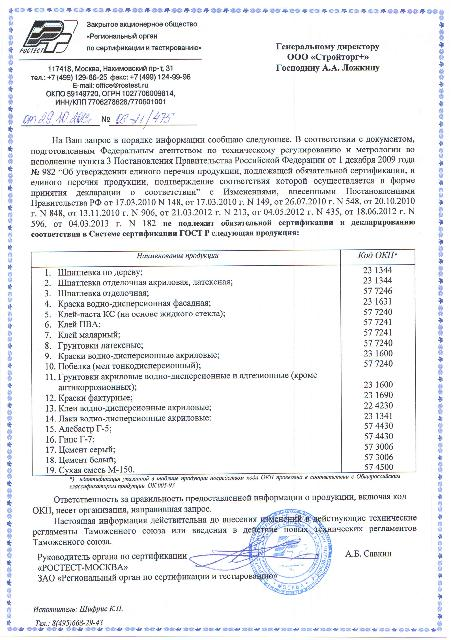stamp: (248, 509, 332, 597)
